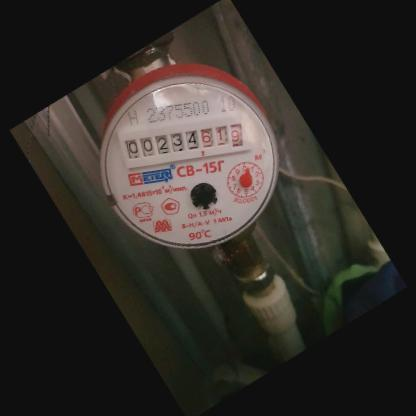digital_screen: (115, 120, 202, 168)
